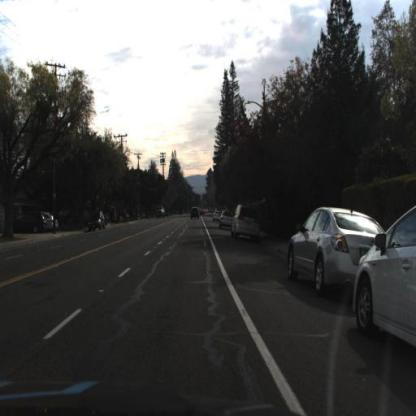car: (354, 199, 416, 353), (289, 207, 391, 299), (232, 203, 263, 243), (15, 213, 49, 236), (87, 212, 108, 233), (42, 210, 57, 234), (220, 210, 234, 232)
